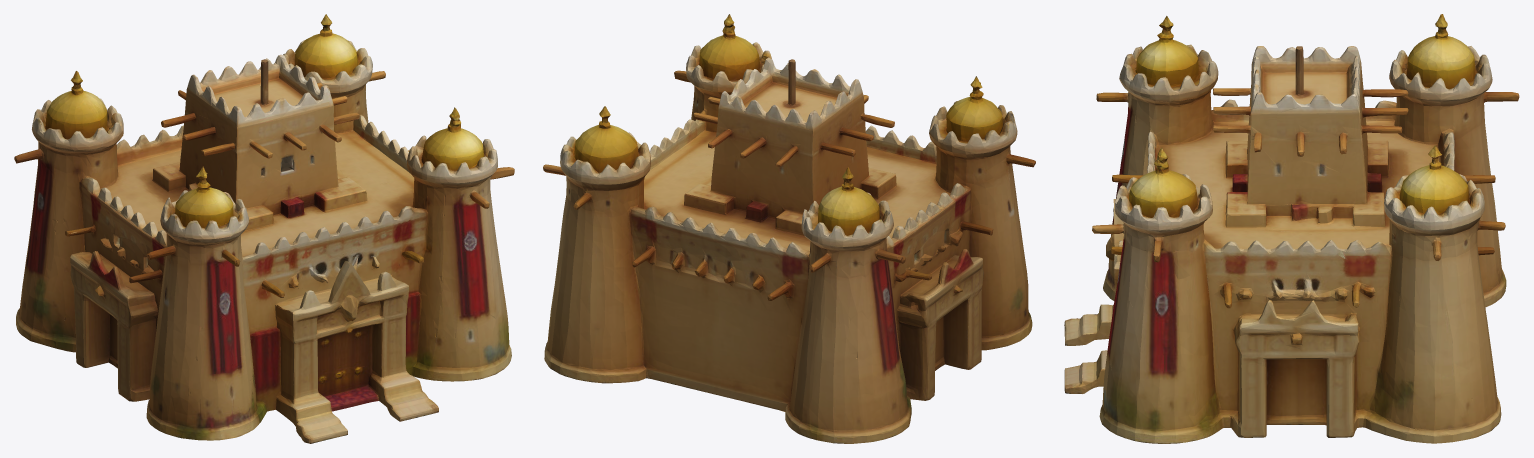
File: sam_castle.glb
3 views of the same model, side by side, from view 1: azimuth 30°, elevation 25°; view 2: azimuth 150°, elevation 25°; view 3: azimuth 270°, elevation 25° (orthographic). The views are drawn at different scales.
Visible parts, largest first — view 1: geometry_0; view 2: geometry_0; view 3: geometry_0.
Part boxes in pixels (left/top/right/bottom): geometry_0: left=14, top=14, right=514, bottom=443; geometry_0: left=543, top=14, right=1035, bottom=443; geometry_0: left=1064, top=14, right=1519, bottom=443.
Bounding box in the file's own units: 0.9943 × 0.7518 × 0.9921.
1 material, 1 textured.
